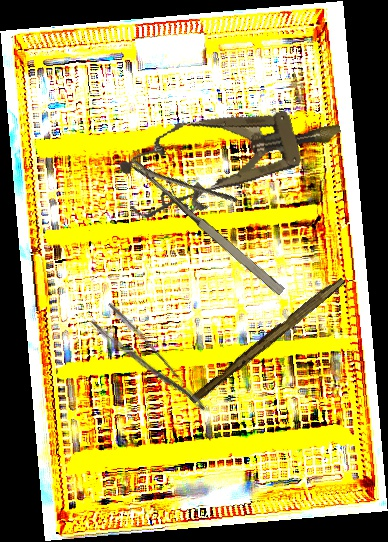Dressing Forceps: (88, 300, 209, 429)
Needle Holder: (129, 129, 308, 301)
Scalpel Handle: (188, 272, 346, 408)
Speculum: (113, 85, 351, 226)
